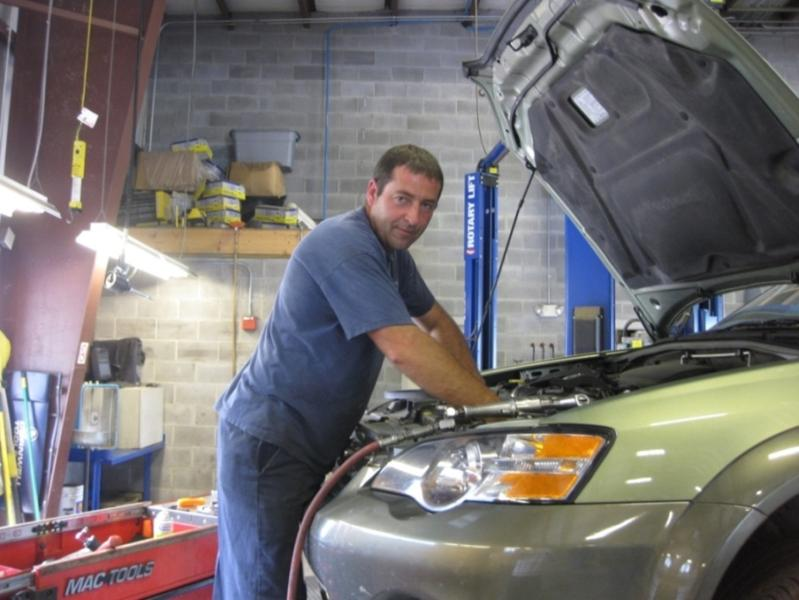person: (212, 143, 504, 597)
